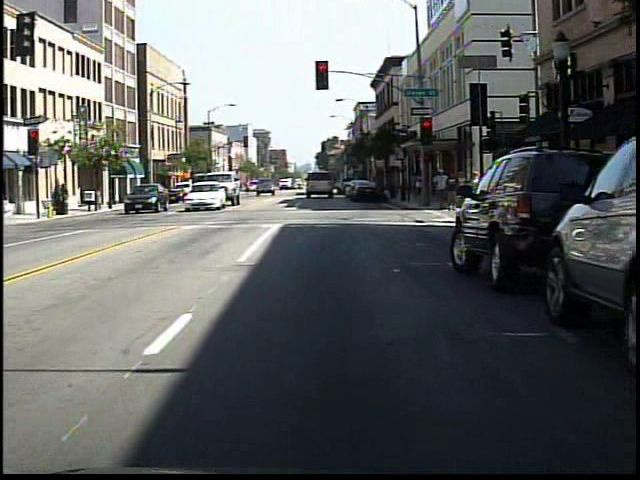person: (432, 165, 451, 205), (445, 168, 460, 212), (455, 169, 469, 207), (239, 173, 256, 202)
